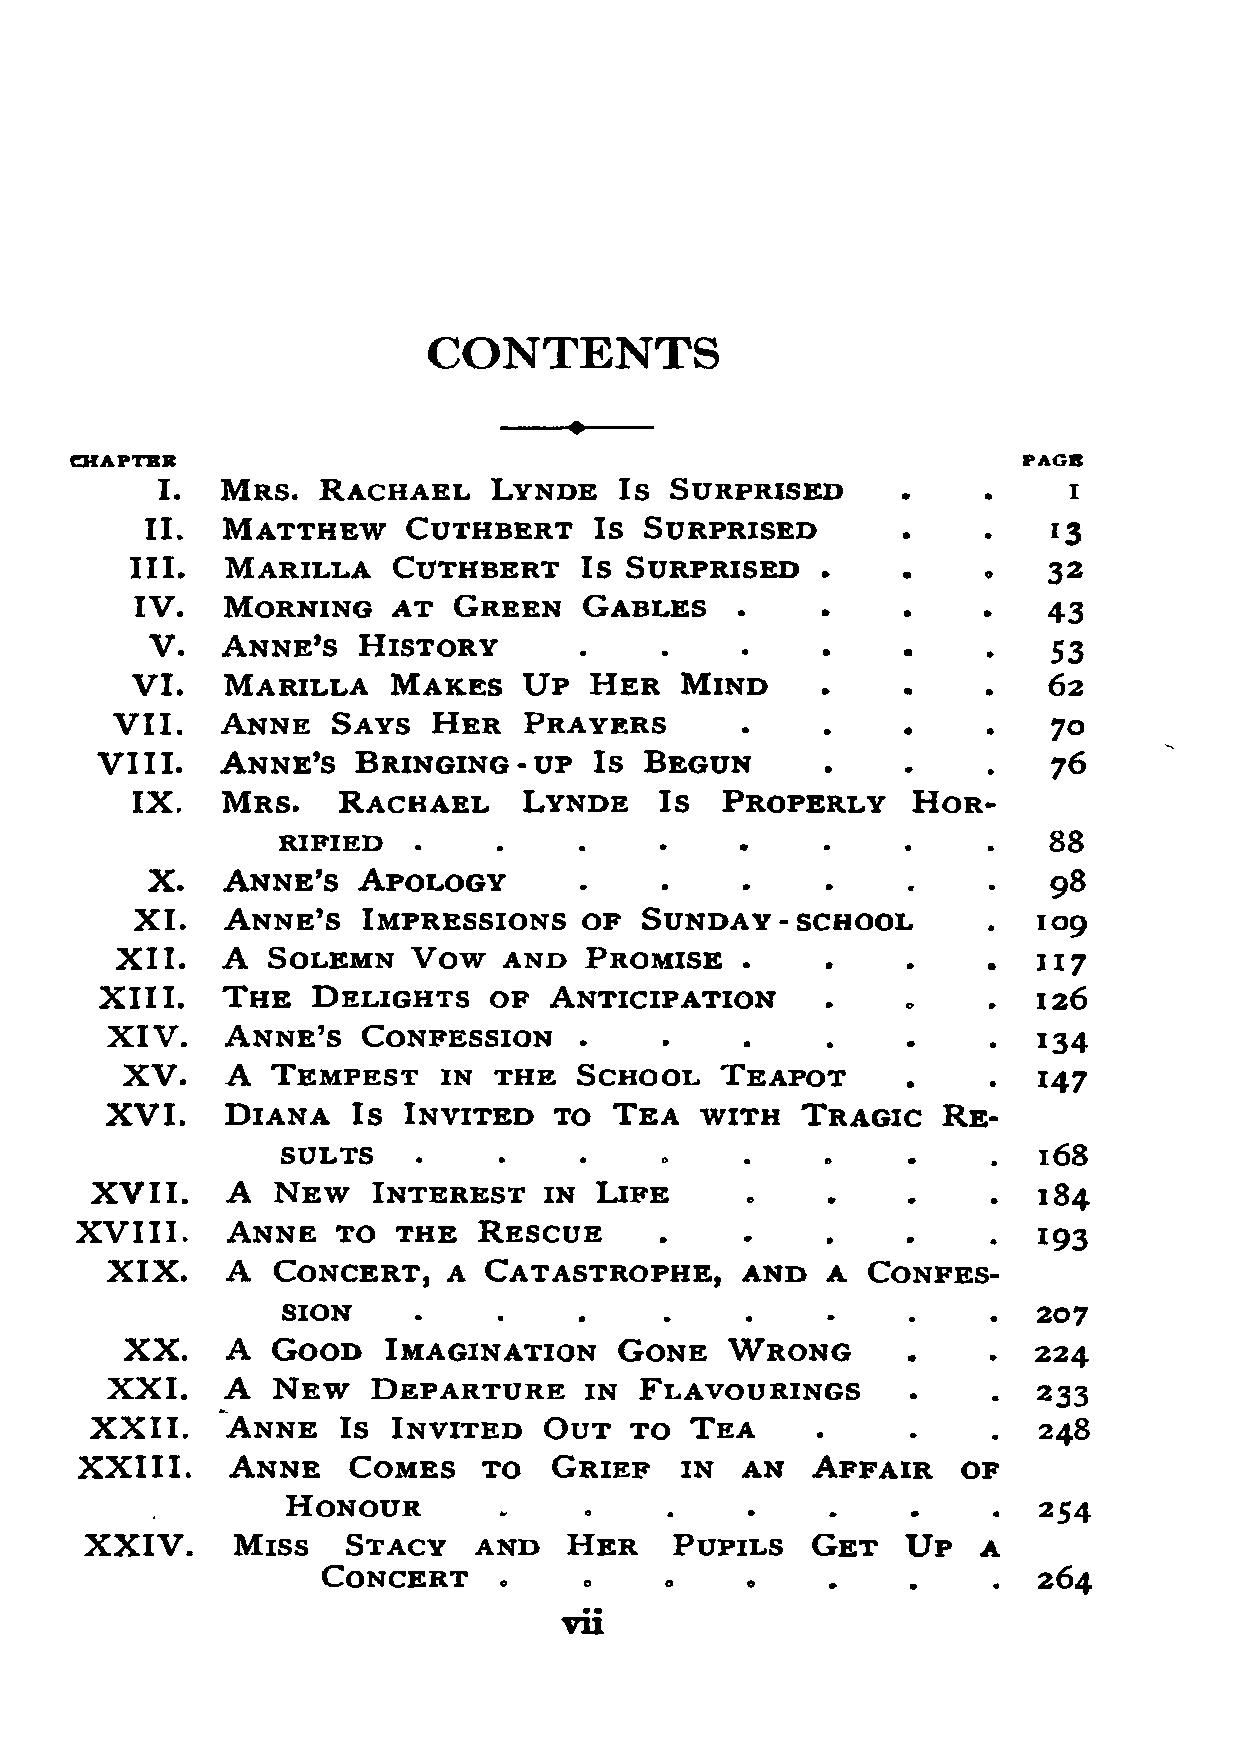TOC_chapter: (75, 1451, 1004, 1520), (103, 1253, 1002, 1325), (81, 1529, 1004, 1596), (103, 1096, 1004, 1165), (126, 786, 1006, 849), (117, 1331, 858, 1368), (103, 1372, 866, 1406), (118, 1057, 848, 1090), (130, 905, 918, 934), (95, 981, 782, 1015), (142, 513, 819, 545), (154, 475, 852, 506), (119, 554, 811, 585), (127, 666, 772, 698), (89, 1412, 760, 1443), (93, 747, 756, 778), (114, 941, 737, 973), (130, 590, 715, 621), (89, 1176, 672, 1206), (111, 707, 670, 738), (70, 1215, 609, 1245), (102, 1020, 556, 1052), (146, 862, 517, 898), (148, 631, 499, 659)
TOC_pagenumber: (1033, 1174, 1100, 1210), (1036, 1554, 1092, 1597), (1027, 909, 1096, 938), (1032, 1494, 1092, 1526), (1032, 1219, 1090, 1252), (1036, 1380, 1100, 1409), (1033, 1062, 1090, 1092), (1036, 1138, 1092, 1168), (1033, 1338, 1090, 1366), (1029, 984, 1091, 1009), (1033, 947, 1087, 976), (1037, 1417, 1091, 1444), (1045, 556, 1091, 586), (1036, 1027, 1090, 1052), (1045, 671, 1091, 701), (1048, 867, 1087, 900), (1037, 1306, 1092, 1329), (1052, 747, 1091, 780), (1045, 823, 1086, 854), (1049, 637, 1087, 668), (1049, 519, 1090, 548), (1045, 600, 1090, 625), (1053, 715, 1086, 742), (1064, 480, 1086, 502)
chapter: (423, 327, 726, 377)
content_pagenumber: (560, 1602, 607, 1635)
